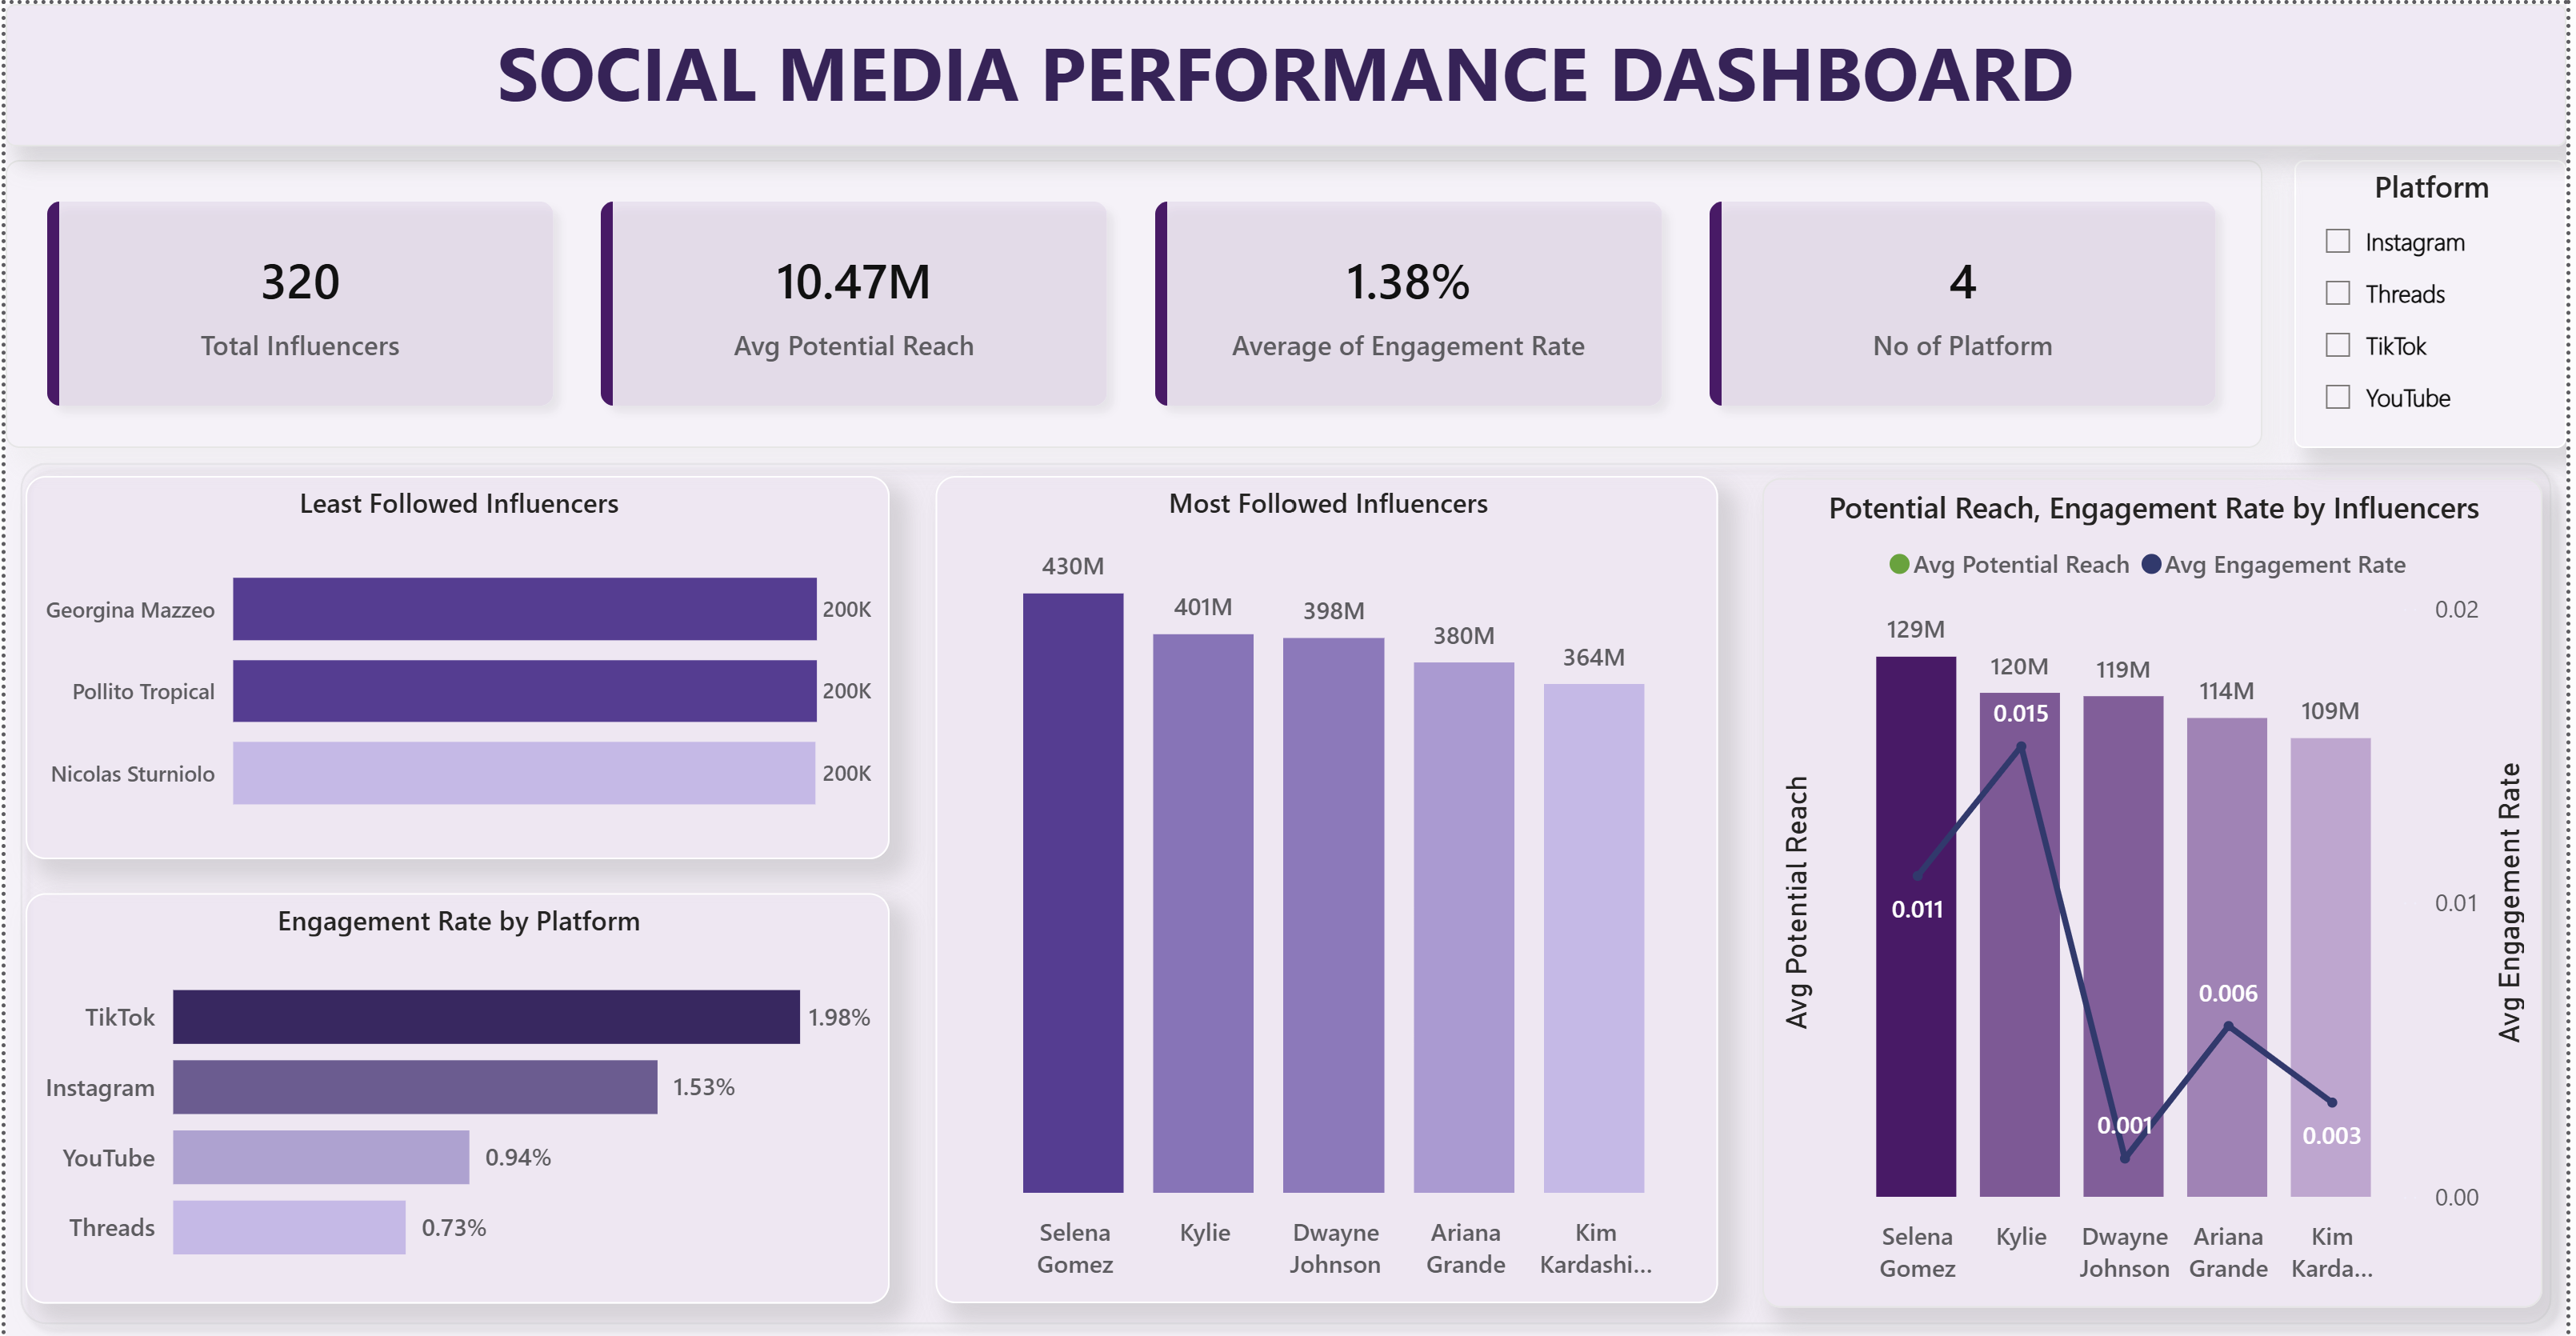

Layout of this report page (visuals, bound fields, positions):
{"tool":"powerbi","page":{"name":"Social Media Perfromance Analysis","canvas":[1280,720],"ordinal":0},"visuals":[{"type":"shape","box":[0,222.2,1280.4,446.1],"z":0},{"type":"clusteredBarChart","title":"Engagement Rate by Platform","fields":{"Category":["Social Media Influencers Data.Platform"],"Y":["Social Media Influencers Data.Engagement Rate"]},"box":[10,445.2,431.6,204.9],"z":1000},{"type":"slicer","title":"Platform","fields":{"Values":["Social Media Influencers Data.Platform"]},"box":[1143.8,77.9,136.6,144],"z":2000},{"type":"clusteredColumnChart","title":"Most Followed Influencers","fields":{"Y":["Social Media Influencers Data.Follower Count"],"Category":["Social Media Influencers Data.Name"]},"box":[465.2,235.8,390.8,414.4],"z":3000},{"type":"clusteredBarChart","title":"Least Followed Influencers","fields":{"Category":["Social Media Influencers Data.Name"],"Y":["Social Media Influencers Data.Follower Count"]},"box":[10,235.8,431.6,192.2],"z":4000},{"type":"lineStackedColumnComboChart","title":"Potential Reach, Engagement Rate by Influencers","fields":{"Category":["Social Media Influencers Data.Name"],"Y":["Social Media Influencers Data.Avg Potential Reach"],"Y2":["Social Media Influencers Data.Avg Engagement Rate"]},"box":[878.2,237.4,389.7,414.4],"z":5000},{"type":"cardVisual","fields":{"Data":["Social Media Influencers Data.Total Influencers","Social Media Influencers Data.Avg Potential Reach","Social Media Influencers Data.Engagement Rate","Social Media Influencers Data.Platform"]},"box":[0,78,1128.1,144.2],"z":6000},{"type":"textbox","box":[0,0,1280.4,70.7],"z":7000}]}

Visuals, with their boxes on the page's 1280x720 design canvas (x1, y1, x2, y2). These are canvas units, not pixel positions in the 2576x1336 screenshot, which may show the page scaled, cropped or inside an application window:
shape: 0/222/1280/668
"Engagement Rate by Platform" clusteredBarChart: 10/445/442/650
"Platform" slicer: 1144/78/1280/222
"Most Followed Influencers" clusteredColumnChart: 465/236/856/650
"Least Followed Influencers" clusteredBarChart: 10/236/442/428
"Potential Reach, Engagement Rate by Influencers" lineStackedColumnComboChart: 878/237/1268/652
cardVisual - Social Media Influencers Data.Total Influencers x Social Media Influencers Data.Avg Potential Reach: 0/78/1128/222
textbox: 0/0/1280/71
